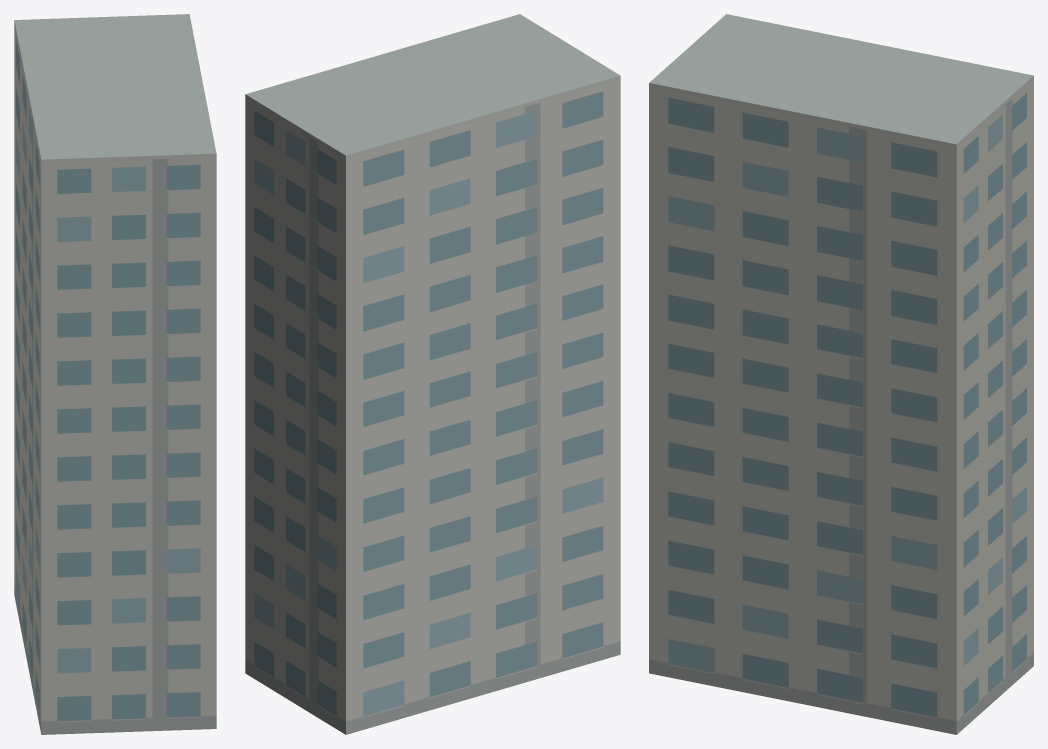
Rendered from residential-0f5e204f-c7d5-431b-9941-59b247b16f97.glb.
The picture shows the model from 3 angles, left to right: view 1: azimuth 30°, elevation 25°; view 2: azimuth 150°, elevation 25°; view 3: azimuth 270°, elevation 25°; orthographic projection. The views are drawn at different scales.
Visible parts, largest first — view 1: residential-0f5e204f-c7d5-431b-9941-59b247b16f97.tmp; view 2: residential-0f5e204f-c7d5-431b-9941-59b247b16f97.tmp; view 3: residential-0f5e204f-c7d5-431b-9941-59b247b16f97.tmp.
Boxes of the visible parts, <box> form: residential-0f5e204f-c7d5-431b-9941-59b247b16f97.tmp: <box>14,14,216,734</box>; residential-0f5e204f-c7d5-431b-9941-59b247b16f97.tmp: <box>245,14,620,734</box>; residential-0f5e204f-c7d5-431b-9941-59b247b16f97.tmp: <box>649,14,1033,734</box>.
Size of the model in its own units: 18.96 by 40 by 23.63.
